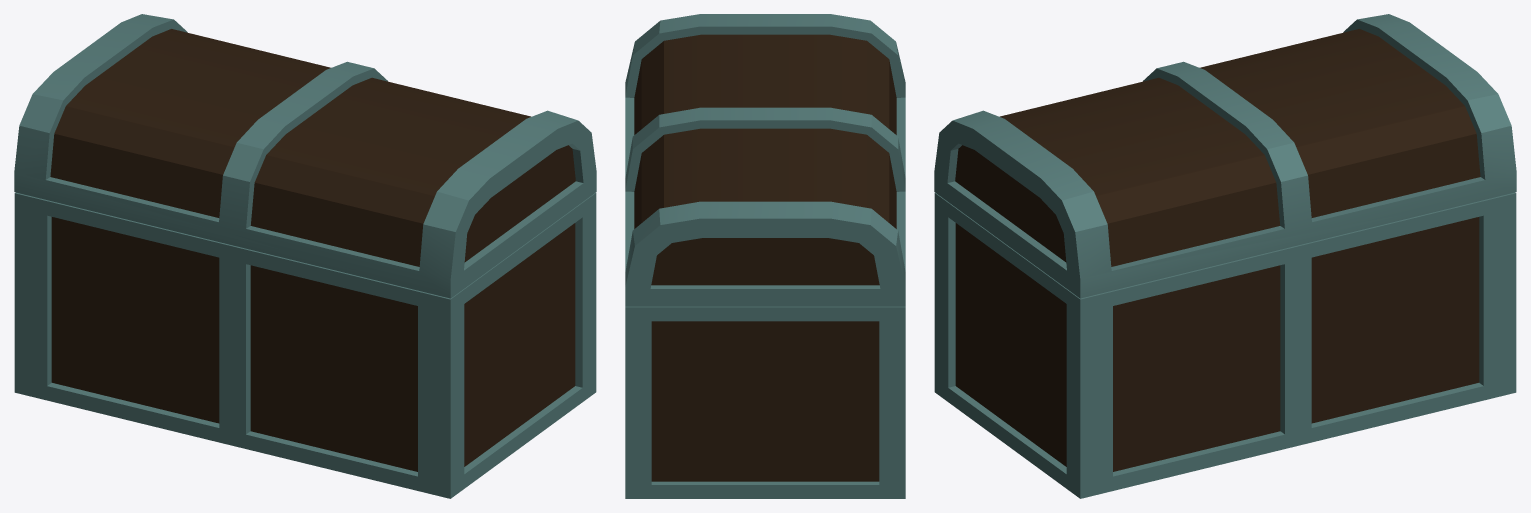
Rendered from chest.fbx.
3 views of the same model, side by side, from view 1: azimuth 30°, elevation 25°; view 2: azimuth 150°, elevation 25°; view 3: azimuth 270°, elevation 25° (orthographic). The views are drawn at different scales.
Parts seen in each view (by area): view 1: сундук, Group001; view 2: Group001, сундук; view 3: сундук, Group001.
Boxes of the visible parts, x1,y1,x2,y2 form: сундук: [14, 192, 596, 498]; Group001: [14, 14, 596, 298]; Group001: [625, 14, 905, 306]; сундук: [625, 306, 905, 498]; сундук: [934, 192, 1516, 498]; Group001: [934, 14, 1516, 298].
Size of the model in its own units: 8.66 by 5.57 by 10.
